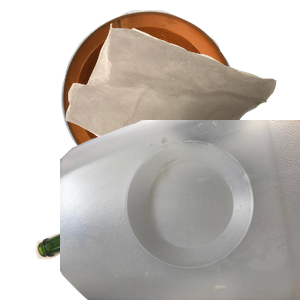glass: (33, 158, 246, 300)
metal: (58, 10, 289, 186)
plastic: (60, 120, 300, 300)
trash: (63, 21, 300, 172)
